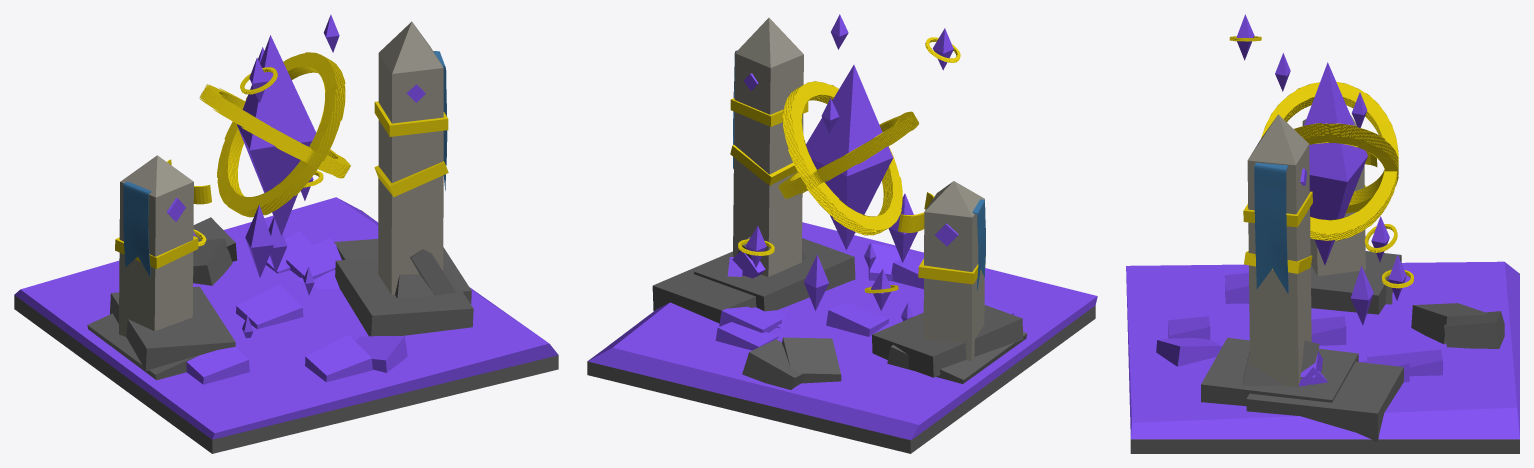
File: MagicTower-lvl3.fbx
3 views of the same model, side by side, from view 1: azimuth 30°, elevation 25°; view 2: azimuth 150°, elevation 25°; view 3: azimuth 270°, elevation 25° (orthographic). The views are drawn at different scales.
Visible parts, largest first — view 1: Куб.002, Куб.010, Куб.011, Куб.001, Worm Gear.001, Куб.007, Cone.007, Куб.005, Worm Gear, Plane.009_feather_0.001, Куб.027, Cone.001 (+14 smaller); view 2: Куб.002, Куб.010, Куб.011, Куб.001, Cone.007, Worm Gear.001, Куб.005, Куб.007, Куб.006, Worm Gear, Куб.009, Куб.008 (+12 smaller); view 3: Куб.002, Куб.010, Куб.001, Cone.007, Куб.006, Куб.007, Worm Gear, Plane.009_feather_0, Куб.005, Worm Gear.001, Куб.011, Куб.008 (+14 smaller).
Boxes of the visible parts, bbox=[...] form: Куб.002: bbox=[14, 197, 558, 439]; Куб.010: bbox=[378, 21, 443, 294]; Куб.011: bbox=[119, 155, 193, 336]; Куб.001: bbox=[14, 210, 558, 453]; Worm Gear.001: bbox=[217, 52, 345, 217]; Куб.007: bbox=[335, 257, 473, 336]; Cone.007: bbox=[237, 35, 316, 235]; Куб.005: bbox=[110, 286, 235, 370]; Worm Gear: bbox=[199, 84, 350, 178]; Plane.009_feather_0.001: bbox=[123, 181, 151, 277]; Куб.027: bbox=[305, 335, 372, 382]; Cone.001: bbox=[242, 204, 314, 338]; Куб.002: bbox=[588, 222, 1097, 440]; Куб.010: bbox=[733, 17, 803, 276]; Куб.011: bbox=[923, 181, 984, 361]; Куб.001: bbox=[587, 305, 1095, 453]; Cone.007: bbox=[806, 65, 893, 249]; Worm Gear.001: bbox=[782, 81, 902, 235]; Куб.005: bbox=[872, 305, 1023, 377]; Куб.007: bbox=[694, 238, 855, 311]; Куб.006: bbox=[652, 251, 756, 323]; Worm Gear: bbox=[778, 111, 918, 199]; Куб.009: bbox=[782, 337, 841, 383]; Куб.008: bbox=[742, 339, 803, 389]; Куб.002: bbox=[1126, 261, 1519, 439]; Куб.010: bbox=[1247, 114, 1311, 387]; Куб.001: bbox=[1130, 273, 1519, 453]; Cone.007: bbox=[1304, 62, 1367, 265]; Куб.006: bbox=[1246, 361, 1403, 441]; Куб.007: bbox=[1201, 337, 1358, 406]; Worm Gear: bbox=[1261, 81, 1398, 240]; Plane.009_feather_0: bbox=[1254, 162, 1288, 294]; Куб.005: bbox=[1310, 251, 1401, 314]; Worm Gear.001: bbox=[1294, 123, 1398, 213]; Куб.011: bbox=[1302, 116, 1365, 276]; Куб.008: bbox=[1444, 311, 1504, 348].
Bounding box in the file's own units: 794 × 725 × 786.
